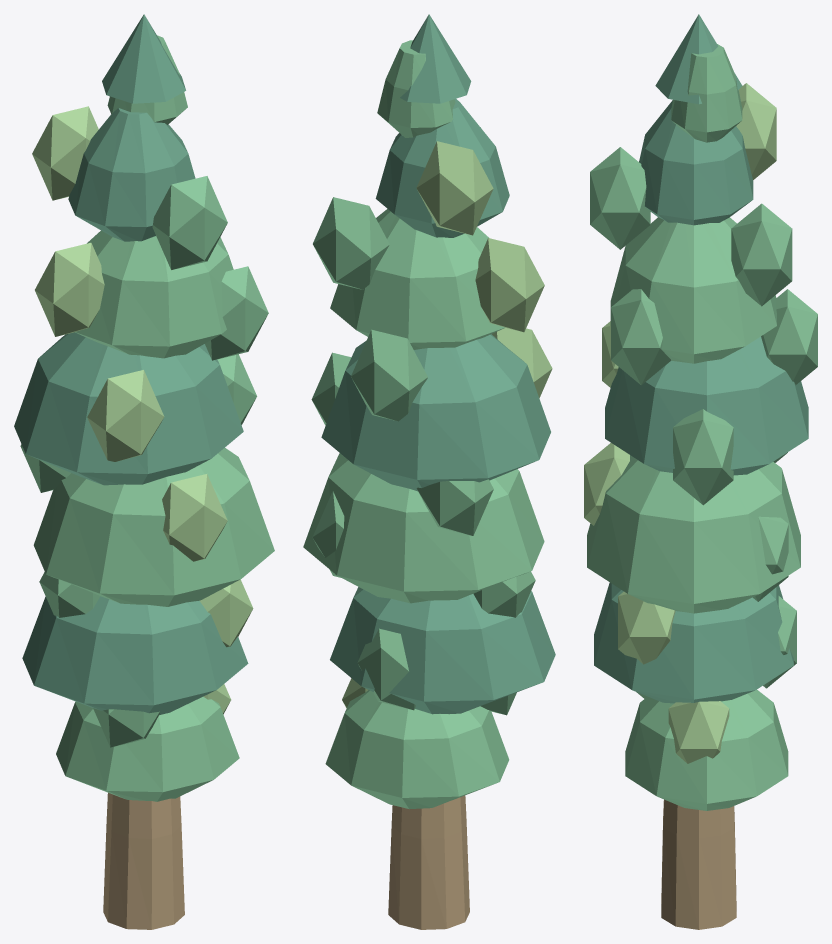
Rendered from tree-cypress.glb.
3 renders of one model, left to right at view 1: azimuth 30°, elevation 25°; view 2: azimuth 150°, elevation 25°; view 3: azimuth 270°, elevation 25°, orthographic.
Parts seen in each view (by area): view 1: tree_cypress_leaf_mid, tree_cypress_leaf_dark, tree_cypress_leaf_light, tree_cypress_trunk; view 2: tree_cypress_leaf_mid, tree_cypress_leaf_dark, tree_cypress_leaf_light, tree_cypress_trunk; view 3: tree_cypress_leaf_mid, tree_cypress_leaf_dark, tree_cypress_leaf_light, tree_cypress_trunk.
Part boxes in pixels (x1,y1,x2,y2): tree_cypress_leaf_mid: (20,35,274,801); tree_cypress_leaf_dark: (14,14,248,715); tree_cypress_leaf_light: (32,106,253,714); tree_cypress_trunk: (103,792,184,929); tree_cypress_leaf_mid: (303,40,544,809); tree_cypress_leaf_dark: (321,14,555,714); tree_cypress_leaf_light: (342,141,552,708); tree_cypress_trunk: (388,795,469,929); tree_cypress_leaf_mid: (587,44,817,810); tree_cypress_leaf_dark: (594,14,808,703); tree_cypress_leaf_light: (584,83,776,763); tree_cypress_trunk: (661,799,736,929).
Bounding box in the file's own units: 1.34 × 5 × 1.18.
